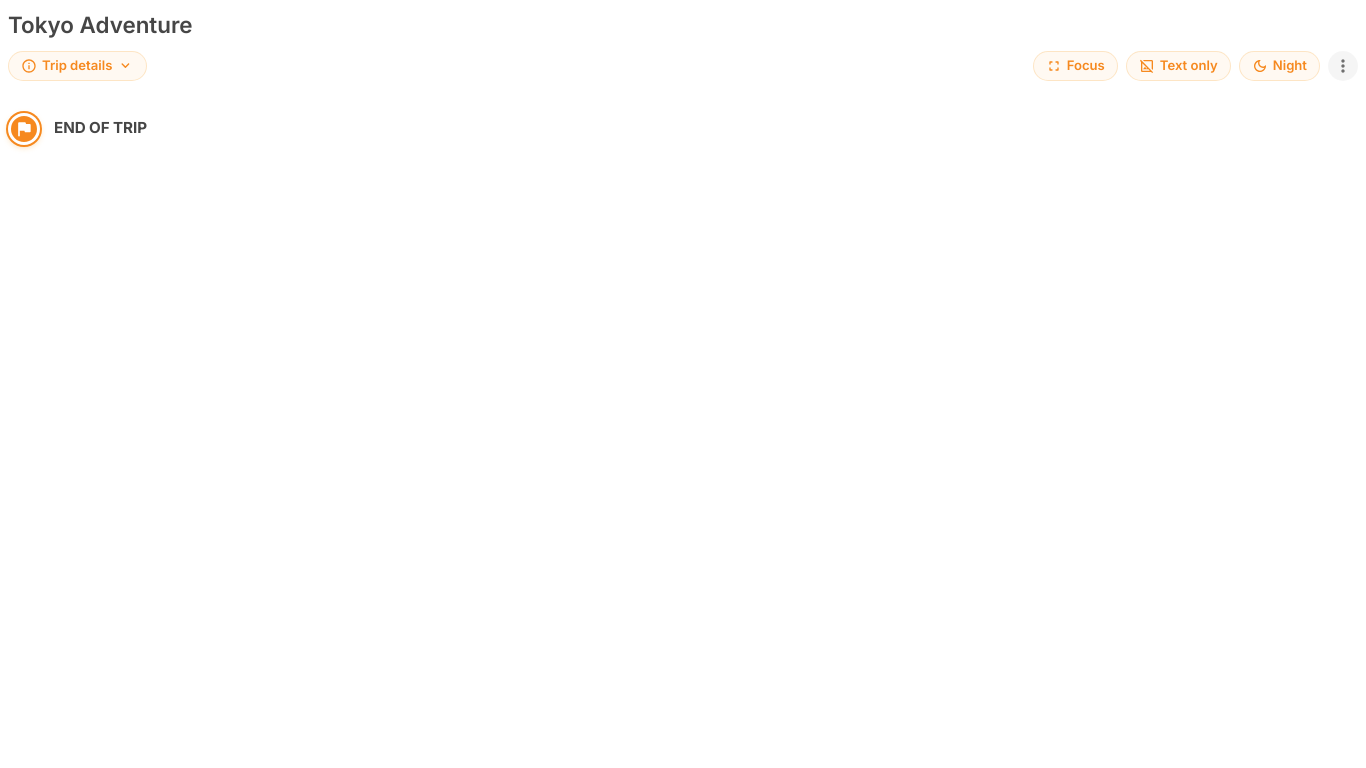
Test: TripDetail — view toggles & reminders › toggles night view and text-only
The width and height of the screenshot is (1366, 768).
Click the button "Night". click: click(1279, 66)
box: 1239,51 -> 1320,81
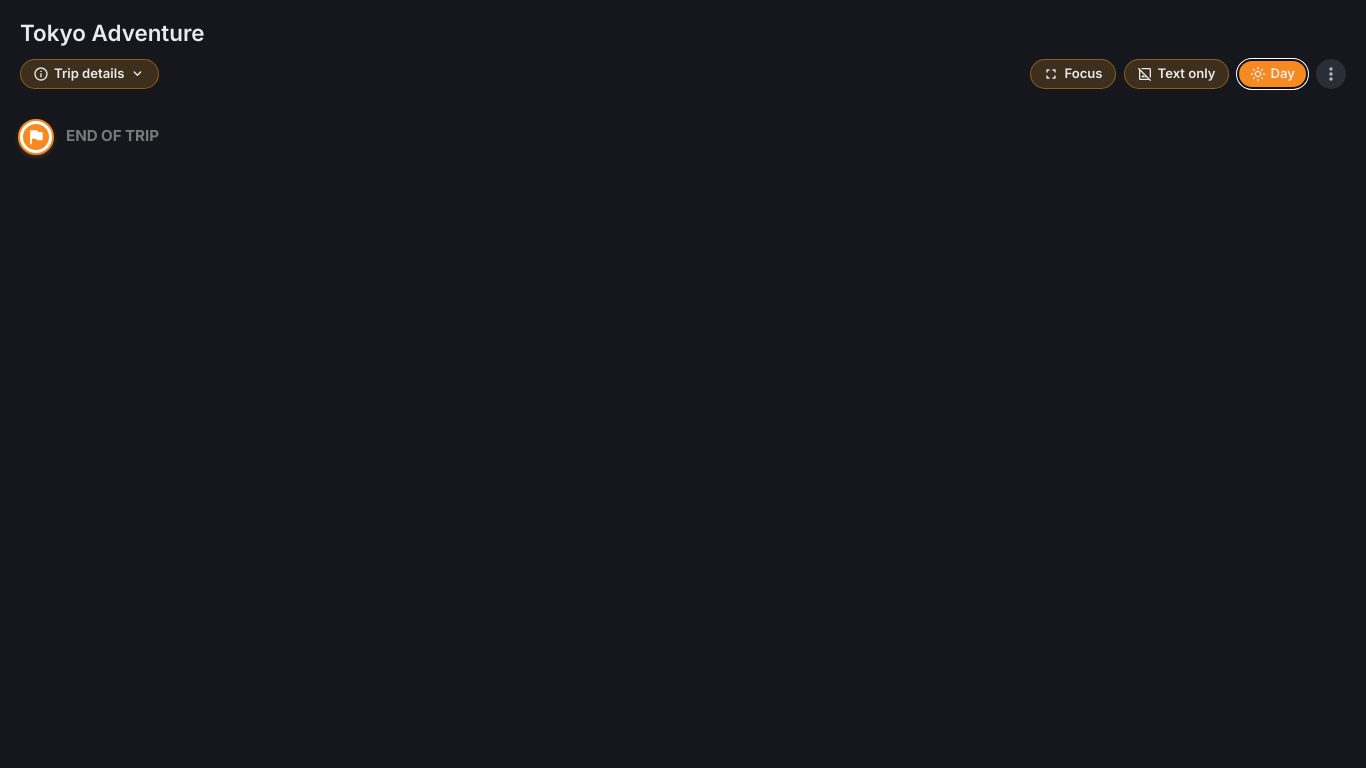
Click the button "Text only". click: click(1176, 74)
box: 1124,59 -> 1228,89
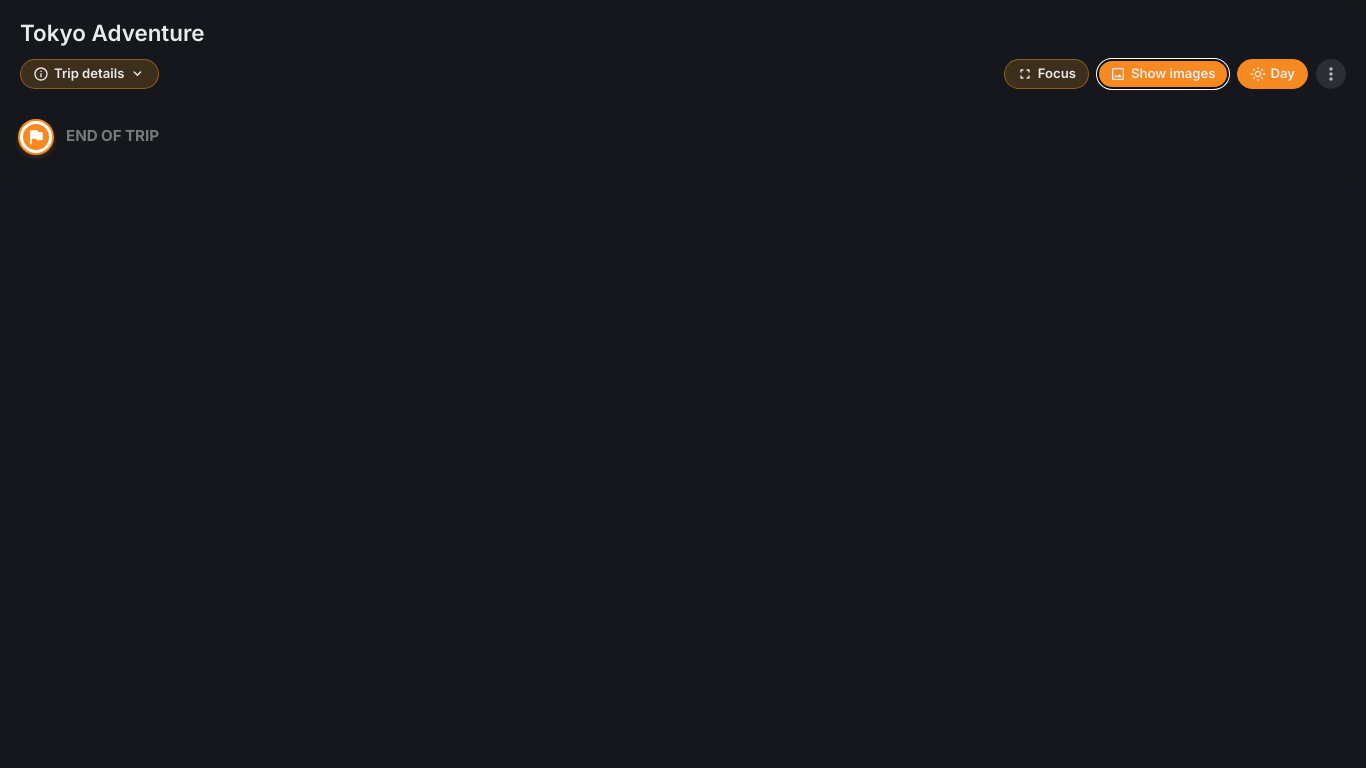
Now the button "Show images" is shown, box 1097,59 -> 1228,89
